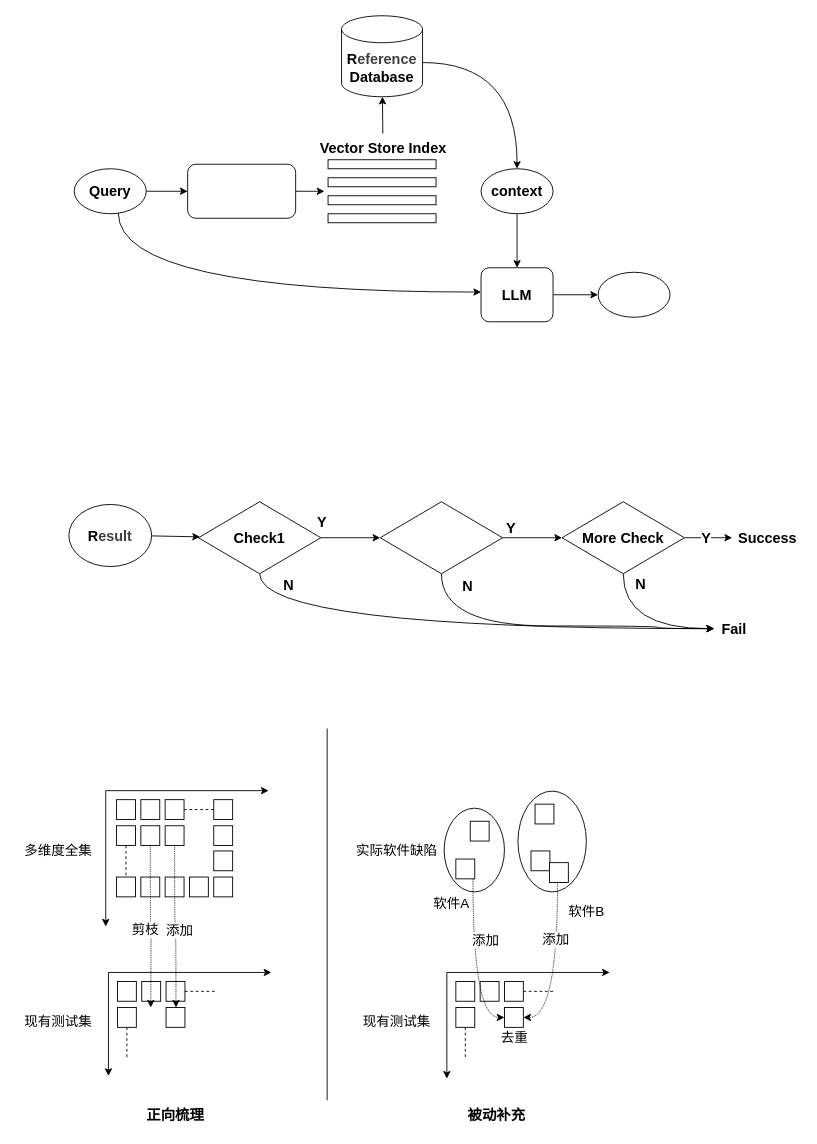
Image size: 817x1144. Some labels were removed from this diagram. Here are the shapes that lost their labels. From the top down, the centre of each, then its label:
At point 241,190: "Embedding Model".
At point 633,294: "Answer".
At point 441,537: "Check2".
